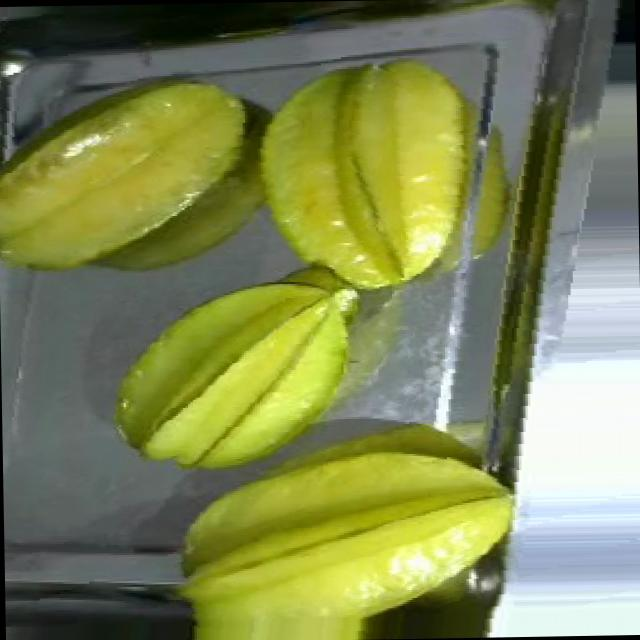fruit: (170, 414, 531, 640), (231, 35, 504, 308), (0, 60, 272, 291), (100, 261, 372, 484)
